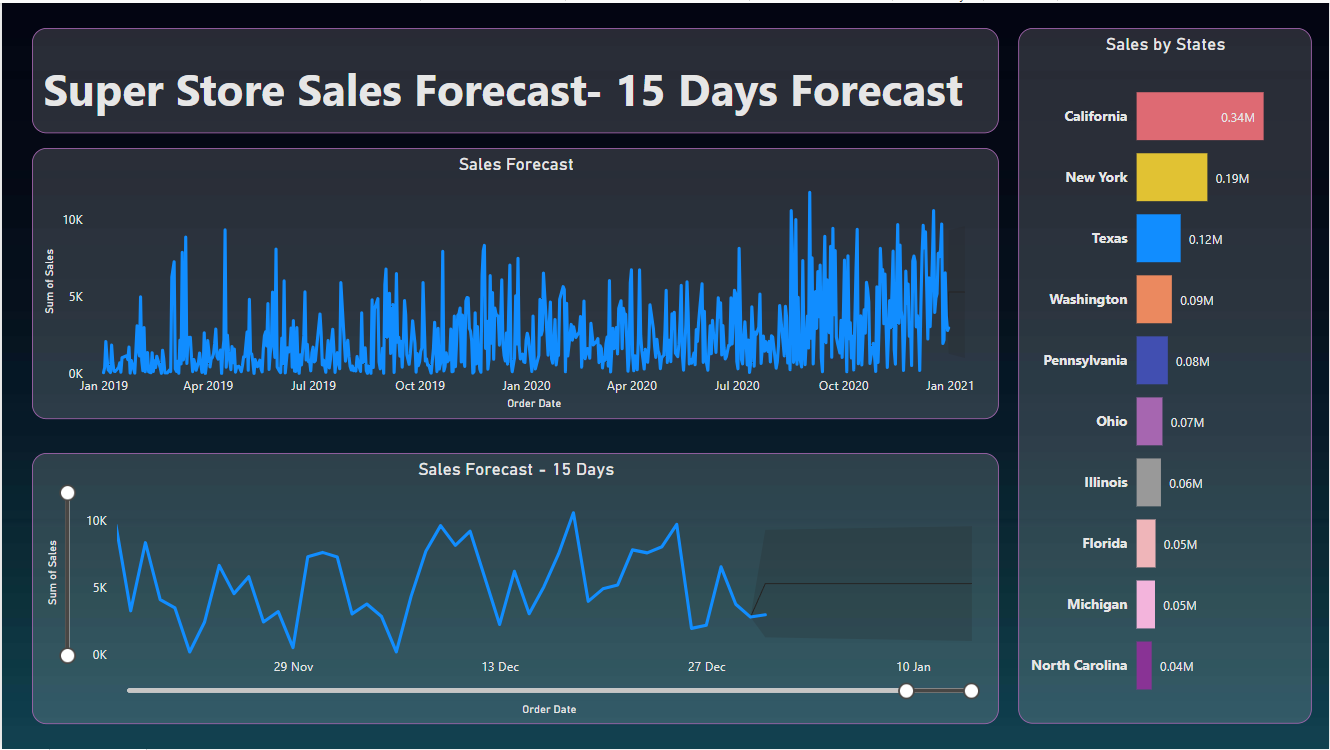

The page's visual inventory and layout, read from the dashboard file:
{"tool":"powerbi","page":{"name":"Page 3","canvas":[1280,720],"ordinal":1},"visuals":[{"type":"lineChart","title":"Sales Forecast","fields":{"Y":["Sum(SuperStore_Sales_Dataset.Sales)"],"Category":["SuperStore_Sales_Dataset.Order Date"]},"box":[28.6,140,932.9,261.4],"z":0},{"type":"textbox","box":[28.6,24.3,932.9,101.4],"z":1000},{"type":"lineChart","title":"Sales Forecast - 15 Days","fields":{"Y":["Sum(SuperStore_Sales_Dataset.Sales)"],"Category":["SuperStore_Sales_Dataset.Order Date"]},"box":[28.6,434.3,932.9,261.4],"z":2000},{"type":"clusteredBarChart","title":"Sales by States","fields":{"Y":["Sum(SuperStore_Sales_Dataset.Sales)"],"Category":["SuperStore_Sales_Dataset.State"]},"box":[980,24.3,282.9,671.4],"z":3000}]}

Visuals, with their boxes in screenshot pixels (x1, y1, x2, y2), scaled from the page's 1280x720 canvas onto the 1330x750 screenshot:
"Sales Forecast" lineChart: <region>30, 146, 999, 418</region>
textbox: <region>30, 25, 999, 131</region>
"Sales Forecast - 15 Days" lineChart: <region>30, 452, 999, 725</region>
"Sales by States" clusteredBarChart: <region>1018, 25, 1312, 725</region>
